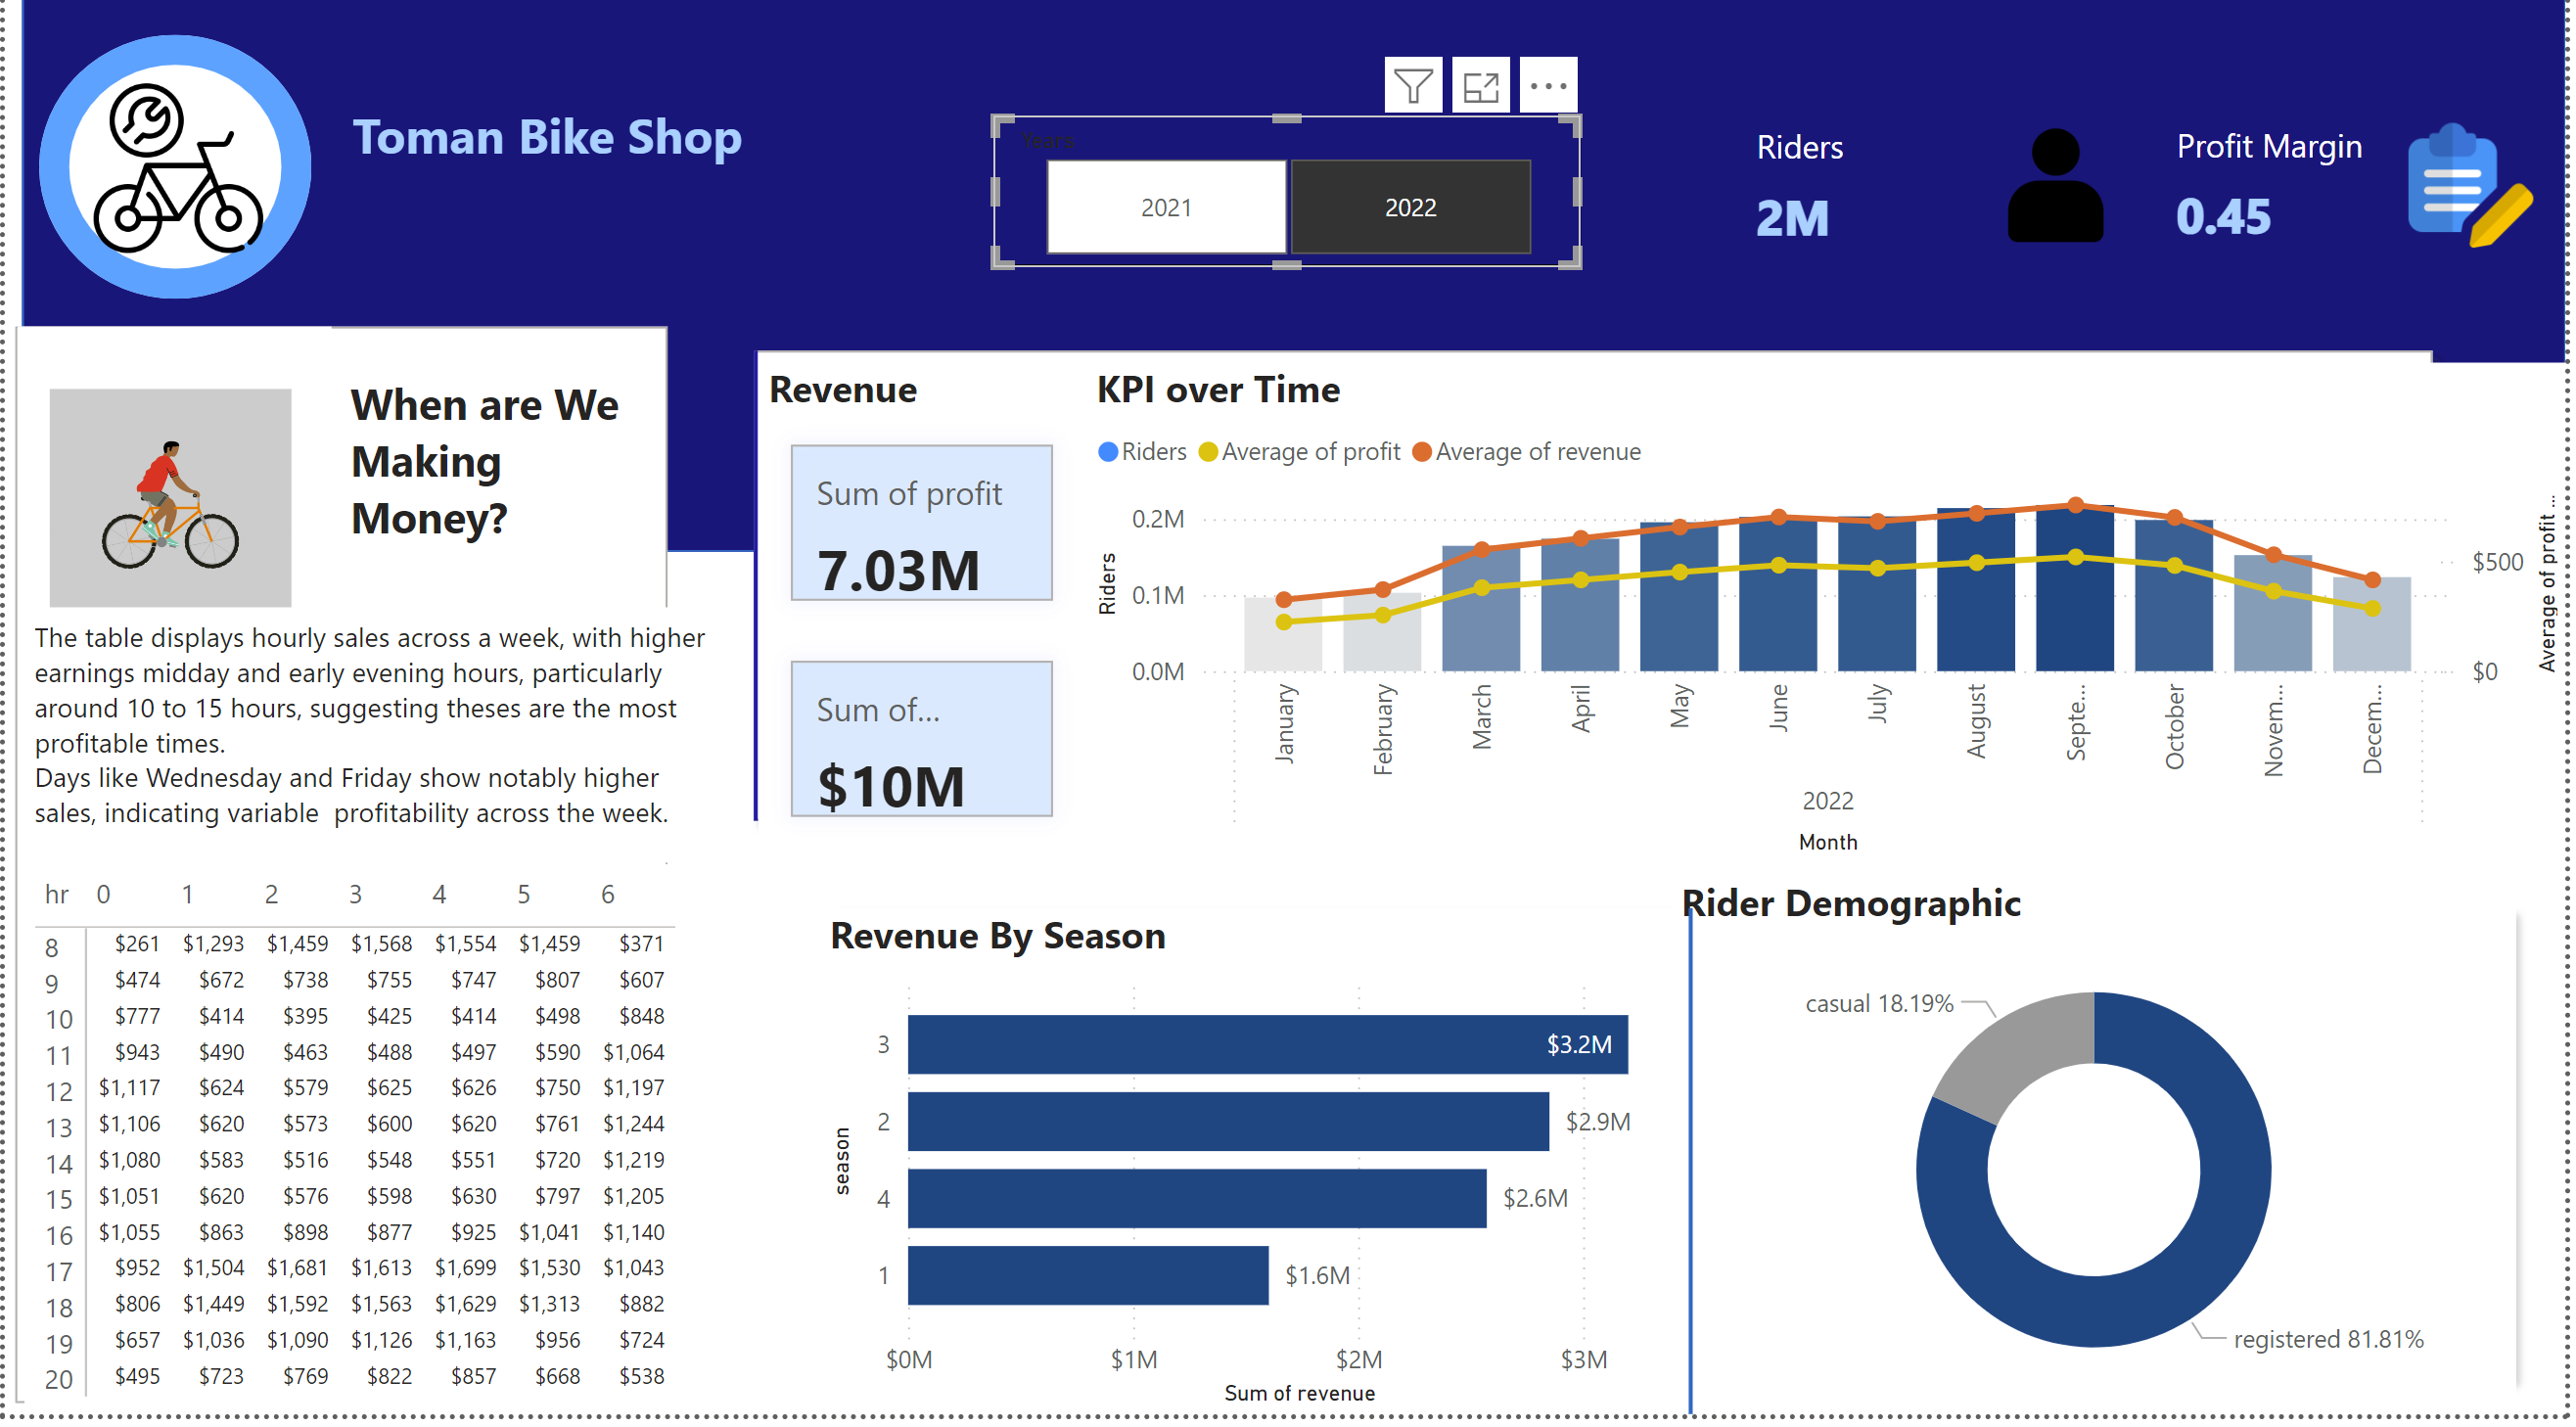

This screenshot's page, from the dashboard's own definition file:
{"tool":"powerbi","page":{"name":"Page 1","canvas":[1280,720],"ordinal":0},"visuals":[{"type":"shape","box":[16.9,31.2,136.1,131.9],"z":0,"group":"g1"},{"type":"shape","box":[9.1,9.1,1271.4,280.5],"z":0},{"type":"image","box":[38.5,45.9,94.8,103.9],"z":1000,"group":"g1"},{"type":"cardVisual","fields":{"Data":["Min(Query1.riders)"]},"box":[0,171.7,336.7,548.3],"z":1000},{"type":"cardVisual","fields":{"Data":["Min(Query1.riders)"]},"box":[395.8,450,873.6,269.4],"z":2000},{"type":"cardVisual","fields":{"Data":["Min(Query1.riders)"]},"box":[1.2,171.2,167.5,188.8],"z":3000},{"type":"pivotTable","fields":{"Rows":["Query1.hr","Query1.hr"],"Values":["Avg(Query1.revenue)"],"Columns":["Query1.weekday"]},"box":[10.1,444.9,347.8,275.4],"z":4000},{"type":"textbox","box":[167.5,183.8,145,96.2],"z":5000},{"type":"textbox","box":[168.1,194.2,144.9,98.6],"z":6000},{"type":"cardVisual","fields":{"Data":["Min(Query1.riders)"]},"box":[356.9,170.8,873.6,269.4],"z":7000},{"type":"textbox","box":[9.7,316.7,347.2,127.8],"z":8000},{"type":"lineClusteredColumnComboChart","title":"KPI over Time","fields":{"Y":["Sum(Query1.riders)"],"Category":["Query1.dteday.Variation.Date Hierarchy.Year","Query1.dteday.Variation.Date Hierarchy.Month","Query1.dteday.Variation.Date Hierarchy.Day"],"Y2":["Avg(Query1.profit)","Avg(Query1.revenue)"]},"box":[540.3,194.4,740.3,250],"z":9000},{"type":"clusteredBarChart","title":"Revenue By Season","fields":{"Category":["Query1.season"],"Y":["Sum(Query1.revenue)"]},"box":[406.9,466.7,452.8,252.8],"z":10000},{"type":"donutChart","title":"Rider Demographic","fields":{"Category":["Query1.rider_type"],"Y":["Sum(Query1.riders)"]},"box":[833.3,451.4,422.2,268.1],"z":11000},{"type":"shape","box":[837.5,466.7,9.7,252.8],"z":12000},{"type":"cardVisual","title":"Revenue","fields":{"Data":["Sum(Query1.profit)","Sum(Query1.revenue)"]},"box":[376.4,194.4,163.9,244.4],"z":13000},{"type":"cardVisual","fields":{"Data":["Sum(Query1.riders)","Query1.Profit Margin"]},"box":[858.3,31.9,422.2,148.6],"z":14000},{"type":"group","id":"g1","title":"Group 1","box":[16.9,31.2,135.1,131.2],"z":15000},{"type":"textbox","box":[168.8,58.4,406.5,48.1],"z":16000},{"type":"slicer","fields":{"Values":["Query1.Years"]},"box":[493.5,71.4,293.5,75.3],"z":17000}]}

Visuals, with their boxes on the page's 1280x720 design canvas (x1, y1, x2, y2). These are canvas units, not pixel positions in the 2576x1427 screenshot, which may show the page scaled, cropped or inside an application window:
shape: bbox(17, 31, 153, 163)
shape: bbox(9, 9, 1280, 290)
image: bbox(38, 46, 133, 150)
cardVisual - Min(Query1.riders): bbox(0, 172, 337, 720)
cardVisual - Min(Query1.riders): bbox(396, 450, 1269, 719)
cardVisual - Min(Query1.riders): bbox(1, 171, 169, 360)
pivotTable - Query1.hr x Query1.hr: bbox(10, 445, 358, 720)
textbox: bbox(168, 184, 312, 280)
textbox: bbox(168, 194, 313, 293)
cardVisual - Min(Query1.riders): bbox(357, 171, 1230, 440)
textbox: bbox(10, 317, 357, 444)
"KPI over Time" lineClusteredColumnComboChart: bbox(540, 194, 1281, 444)
"Revenue By Season" clusteredBarChart: bbox(407, 467, 860, 720)
"Rider Demographic" donutChart: bbox(833, 451, 1256, 720)
shape: bbox(838, 467, 847, 720)
"Revenue" cardVisual: bbox(376, 194, 540, 439)
cardVisual - Sum(Query1.riders) x Query1.Profit Margin: bbox(858, 32, 1280, 180)
"Group 1" group: bbox(17, 31, 152, 162)
textbox: bbox(169, 58, 575, 106)
slicer - Query1.Years: bbox(494, 71, 787, 147)
